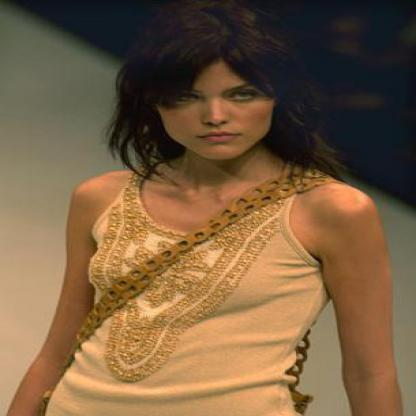face: (152, 21, 279, 161)
